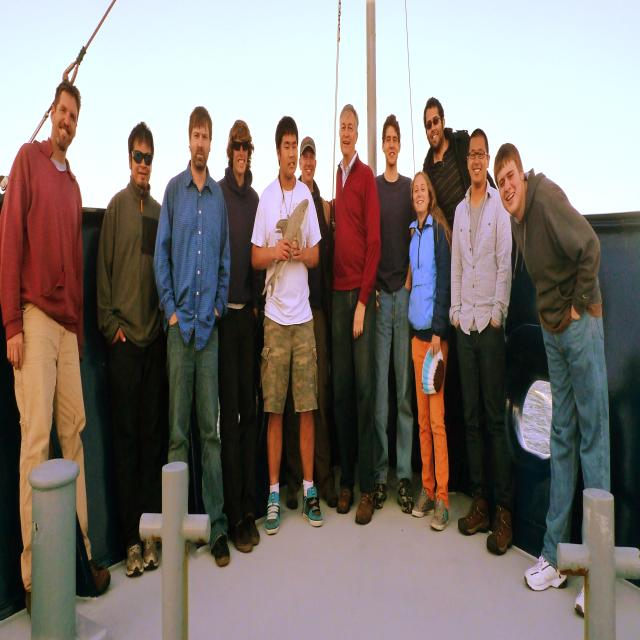body: (0, 77, 112, 639), (492, 140, 613, 622), (151, 103, 232, 573), (95, 120, 168, 580), (248, 111, 324, 540), (447, 124, 515, 559), (326, 103, 382, 526), (216, 118, 263, 554), (285, 135, 339, 510), (369, 113, 418, 514), (408, 172, 453, 532), (422, 94, 498, 235)
